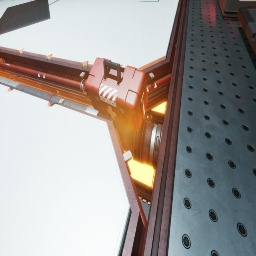FirstAidBox ,: (85, 57, 148, 132)
